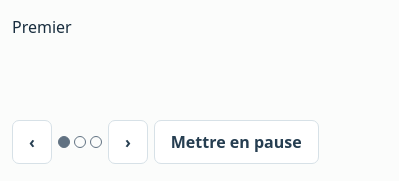
Test: se met en pause au bouton, au survol et se navigue à la main
This screenshot has width=399, height=181.
Click the button "Mettre en pause". click: [236, 142]
box: [154,120,319,164]
Wait 5000 ms
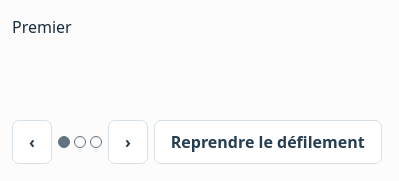
Expected: the text "Premier" is shown, [12,16,72,38]
Click the button named "Information précédente". click: [32, 142]
box: [12,120,52,164]
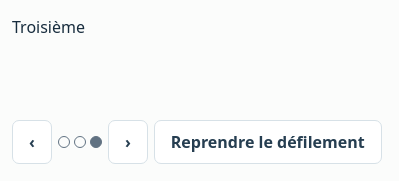
Expected: the text "Troisième" is shown, [12,16,85,38]
Click the button named "Information 2". click: [80, 142]
box: [74,136,86,148]
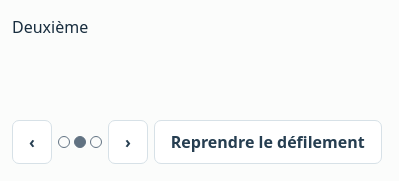
Expected: the text "Deuxième" is shown, [12,16,88,38]
Click the button "Reprendre le défilement". click: [268, 142]
box: [154,120,382,164]
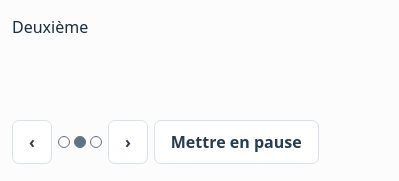
Hover over the element named "Infos" at [50, 27], box [12,16,319,164]
Expected: the text "Deuxième" is shown, [12,16,88,38]
Move the pointer off the element named "Infos"
Wait 1000 ms
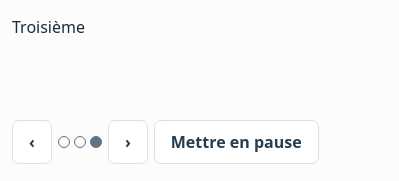
Expected: the text "Troisième" is shown, [12,16,85,38]
